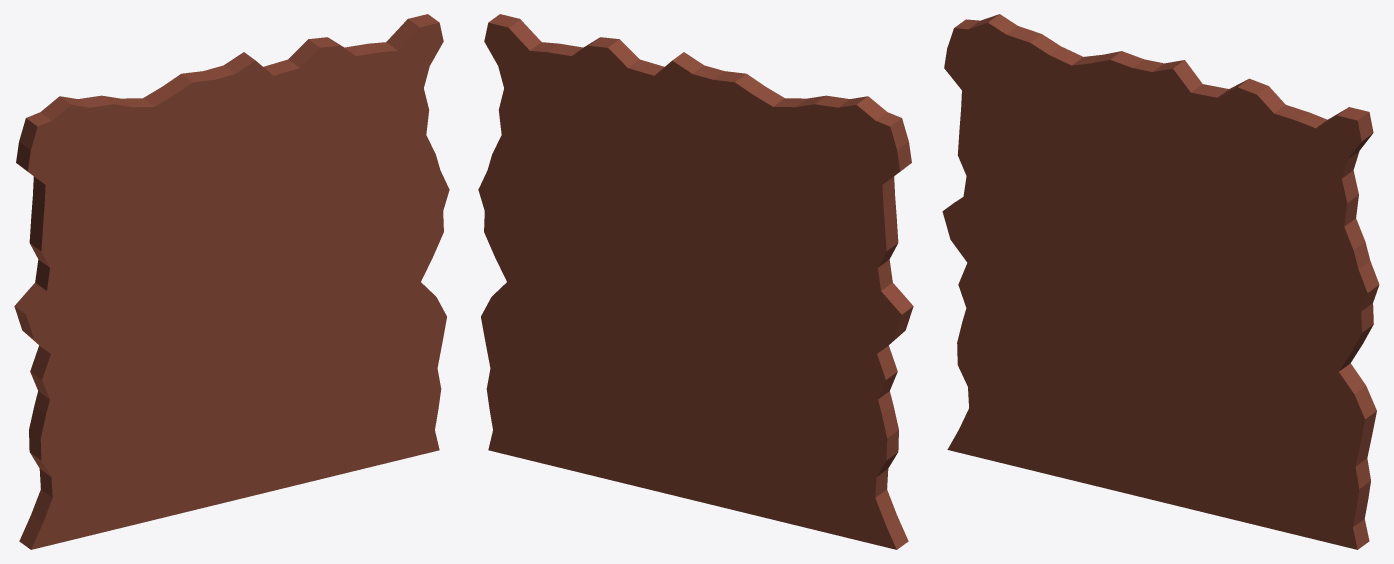
The model's file is tile11.001.glb.
The picture shows the model from 3 angles, left to right: view 1: azimuth 30°, elevation 25°; view 2: azimuth 150°, elevation 25°; view 3: azimuth 330°, elevation 25°; orthographic projection.
Parts seen in each view (by area): view 1: 11.001; view 2: 11.001; view 3: 11.001.
Part boxes in pixels (x1,y1,x2,y2): 11.001: (14,14,449,549); 11.001: (478,14,913,549); 11.001: (942,14,1379,549).
Size of the model in its own units: 2.07 by 2.04 by 0.1.
1 material, 1 textured.
